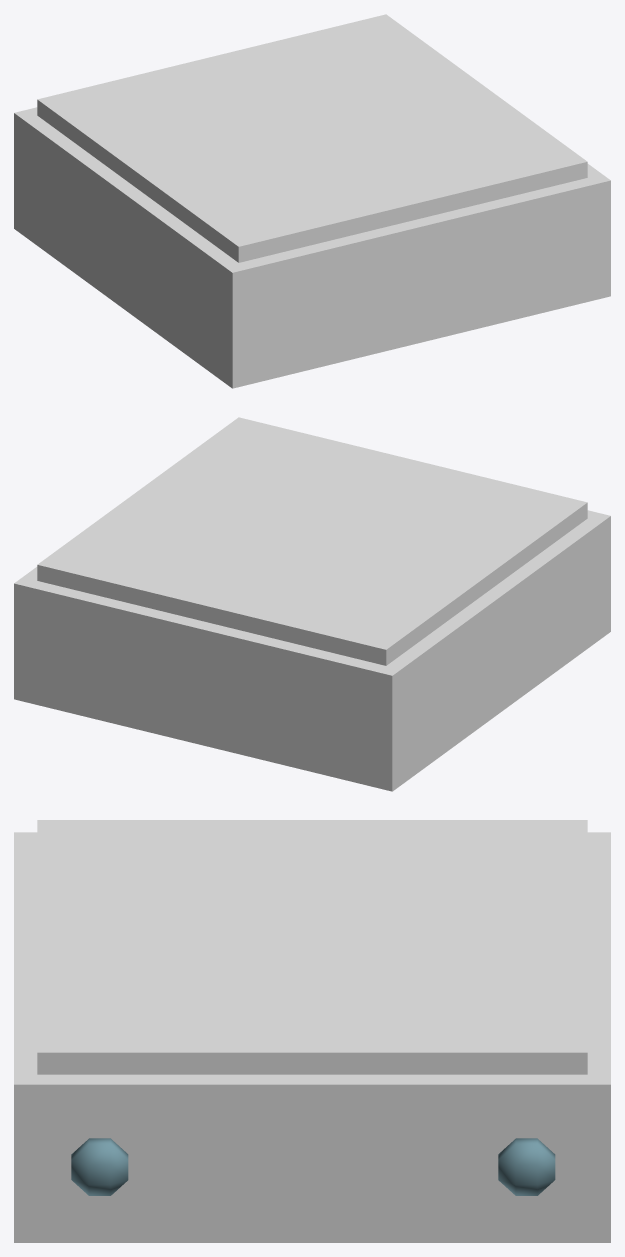
File: Button_Bottle.fbx
3 renders of one model, top to bottom at view 1: azimuth 30°, elevation 25°; view 2: azimuth 150°, elevation 25°; view 3: azimuth 270°, elevation 25°, orthographic. The views are drawn at different scales.
Parts seen in each view (by area): view 1: Cube; view 2: Cube; view 3: Cube.
Part boxes in pixels (bbox=[...]): Cube: bbox=[14, 14, 610, 388]; Cube: bbox=[14, 417, 610, 791]; Cube: bbox=[14, 820, 610, 1242].
Size of the model in its own units: 209 by 66.64 by 200.
